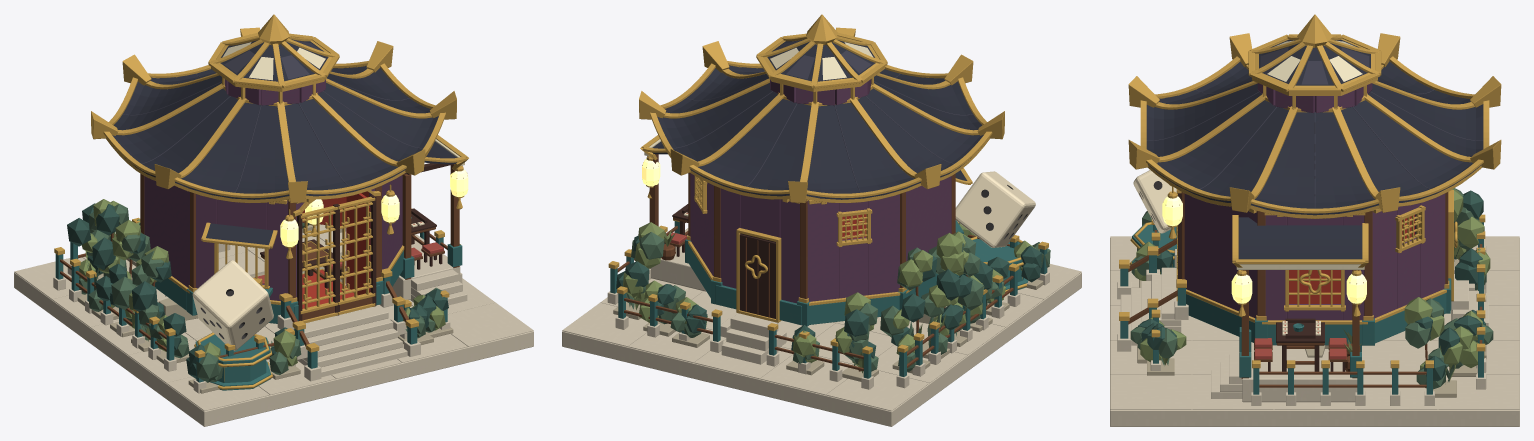
File: casino.glb
The picture shows the model from 3 angles, left to right: view 1: azimuth 30°, elevation 25°; view 2: azimuth 150°, elevation 25°; view 3: azimuth 270°, elevation 25°; orthographic projection. The views are drawn at different scales.
Parts seen in each view (by area): view 1: SM_QK18_C17_Batch_12, SM_QK18_C17_Batch_0, SM_QK18_C17_Batch_21, SM_QK18_C17_Batch_3, SM_QK18_C17_Batch_70, SM_QK18_C17_Batch_20, SM_QK18_C17_Batch_68, SM_QK18_C17_Batch_76, SM_QK18_C17_Batch_44, SM_QK18_C17_Batch_69, SM_QK18_C17_Batch_31, SM_QK18_C17_Batch_34 (+31 smaller); view 2: SM_QK18_C17_Batch_12, SM_QK18_C17_Batch_0, SM_QK18_C17_Batch_83, SM_QK18_C17_Batch_21, SM_QK18_C17_Batch_69, SM_QK18_C17_Batch_70, SM_QK18_C17_Batch_68, SM_QK18_C17_Batch_76, SM_QK18_C17_Batch_44, SM_QK18_C17_Batch_64, SM_QK18_C17_Batch_3, SM_QK18_C17_Batch_74 (+20 smaller); view 3: SM_QK18_C17_Batch_12, SM_QK18_C17_Batch_0, SM_QK18_C17_Batch_21, SM_QK18_C17_Batch_3, SM_QK18_C17_Batch_83, SM_QK18_C17_Batch_76, SM_QK18_C17_Batch_18, SM_QK18_C17_Batch_69, SM_QK18_C17_Batch_8, SM_QK18_C17_Batch_70, SM_QK18_C17_Batch_74, SM_QK18_C17_Batch_68 (+35 smaller).
Boxes of the visible parts, x1,y1,x2,y2 form: SM_QK18_C17_Batch_12: (112, 66, 438, 199); SM_QK18_C17_Batch_0: (14, 224, 533, 426); SM_QK18_C17_Batch_21: (103, 32, 467, 198); SM_QK18_C17_Batch_3: (144, 175, 402, 301); SM_QK18_C17_Batch_70: (67, 203, 448, 378); SM_QK18_C17_Batch_20: (293, 306, 407, 377); SM_QK18_C17_Batch_68: (79, 204, 448, 382); SM_QK18_C17_Batch_76: (91, 27, 456, 203); SM_QK18_C17_Batch_44: (192, 260, 273, 350); SM_QK18_C17_Batch_69: (79, 199, 445, 366); SM_QK18_C17_Batch_31: (300, 206, 337, 323); SM_QK18_C17_Batch_34: (338, 196, 375, 314); SM_QK18_C17_Batch_12: (657, 65, 983, 199); SM_QK18_C17_Batch_0: (562, 264, 1081, 426); SM_QK18_C17_Batch_83: (690, 173, 899, 303); SM_QK18_C17_Batch_21: (642, 32, 992, 198); SM_QK18_C17_Batch_69: (622, 222, 1035, 373); SM_QK18_C17_Batch_70: (616, 235, 1041, 358); SM_QK18_C17_Batch_68: (626, 232, 1050, 371); SM_QK18_C17_Batch_76: (639, 27, 1004, 203); SM_QK18_C17_Batch_44: (955, 171, 1035, 247); SM_QK18_C17_Batch_64: (610, 221, 1047, 378); SM_QK18_C17_Batch_3: (906, 176, 951, 261); SM_QK18_C17_Batch_74: (688, 244, 938, 325); SM_QK18_C17_Batch_12: (1146, 61, 1483, 215); SM_QK18_C17_Batch_0: (1110, 236, 1519, 426); SM_QK18_C17_Batch_21: (1140, 34, 1489, 264); SM_QK18_C17_Batch_3: (1184, 193, 1364, 320); SM_QK18_C17_Batch_83: (1372, 193, 1445, 318); SM_QK18_C17_Batch_76: (1128, 33, 1501, 218); SM_QK18_C17_Batch_18: (1238, 217, 1362, 259); SM_QK18_C17_Batch_69: (1134, 189, 1490, 380); SM_QK18_C17_Batch_8: (1242, 349, 1357, 402); SM_QK18_C17_Batch_70: (1138, 190, 1485, 381); SM_QK18_C17_Batch_74: (1186, 278, 1451, 345); SM_QK18_C17_Batch_68: (1130, 188, 1493, 389).
Bounding box in the file's own units: 10 × 8.79 × 10.
19 materials, 12 textured.
